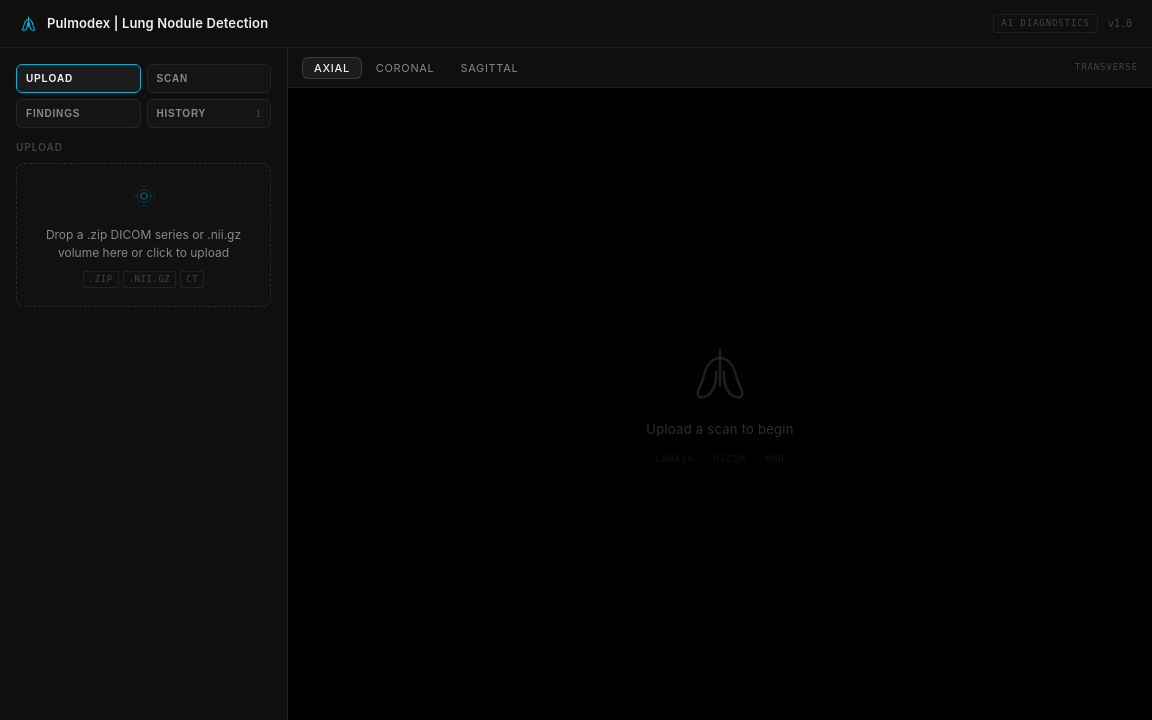
Scenario: App › deletes a history item and clears the viewer when deleting the active scan
Click the button "History 1": x=209, y=114 [146,99,271,128]
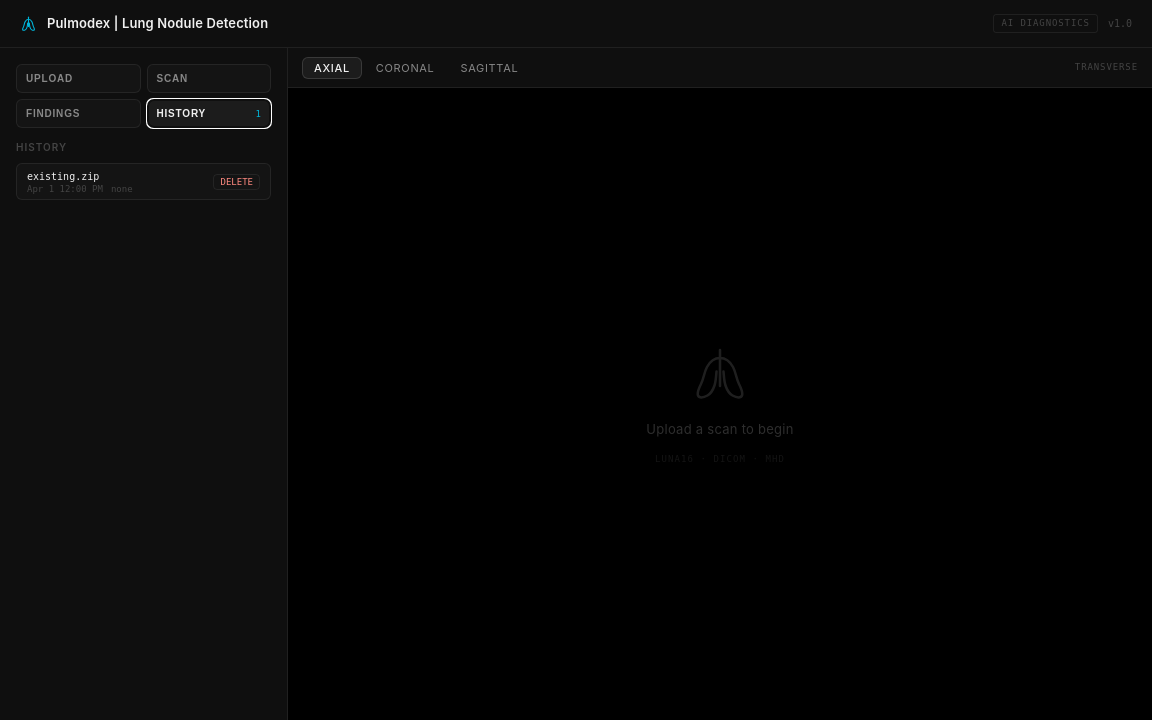
Click the button "existing.zip Apr 1 12:00 PM none": x=112, y=182 [17,164,208,199]
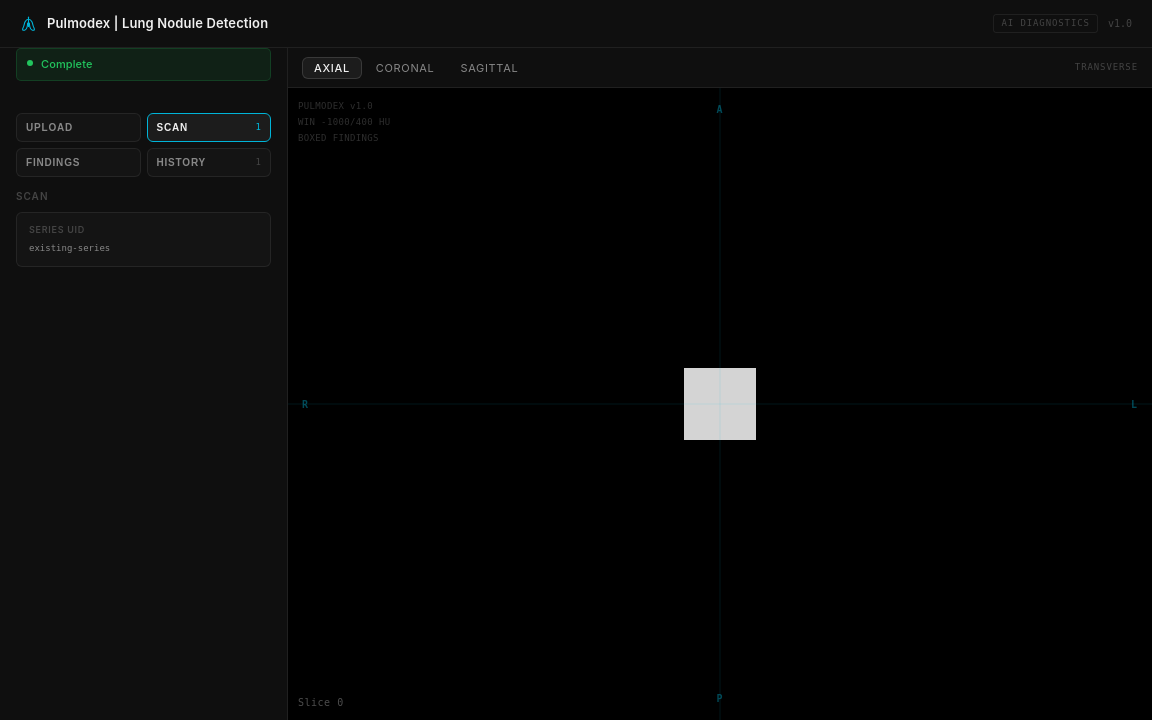
Check: the text "Series UID" is shown, box [29,224,85,234]
Click the button "History 1": x=209, y=162 [146,148,271,176]
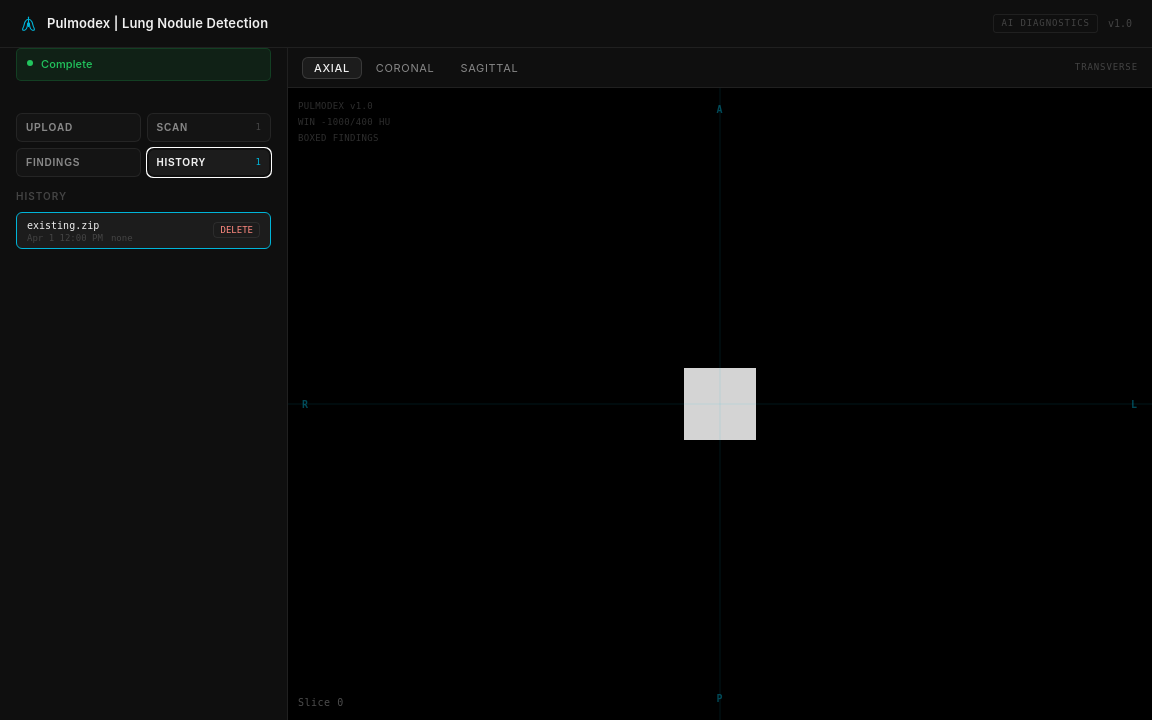
Click the button with aria-label "delete existing.zip": x=237, y=230 [214,222,260,238]
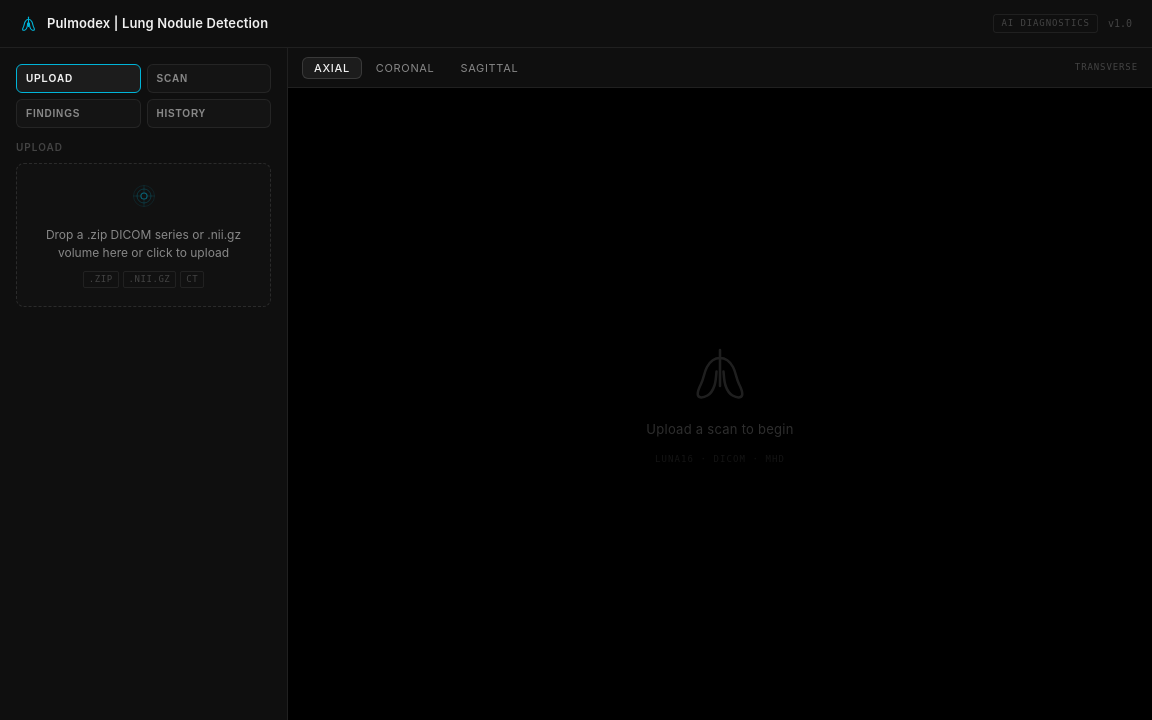
Check: the text "Series UID" is not shown
Check: the button "existing.zip" is gone
Check: the text "Drop a .zip DICOM series or .nii.gz volume here" is shown, box [46,226,241,260]
